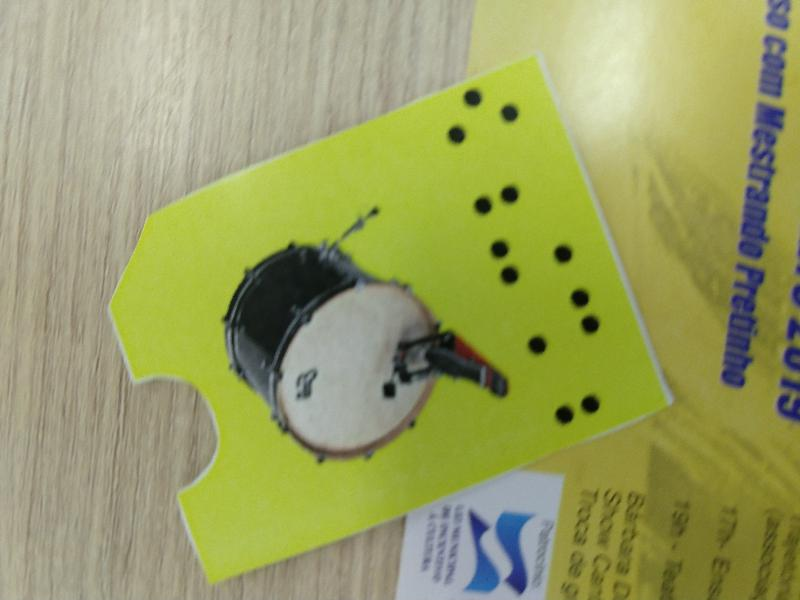bumbo: (101, 46, 676, 588)
